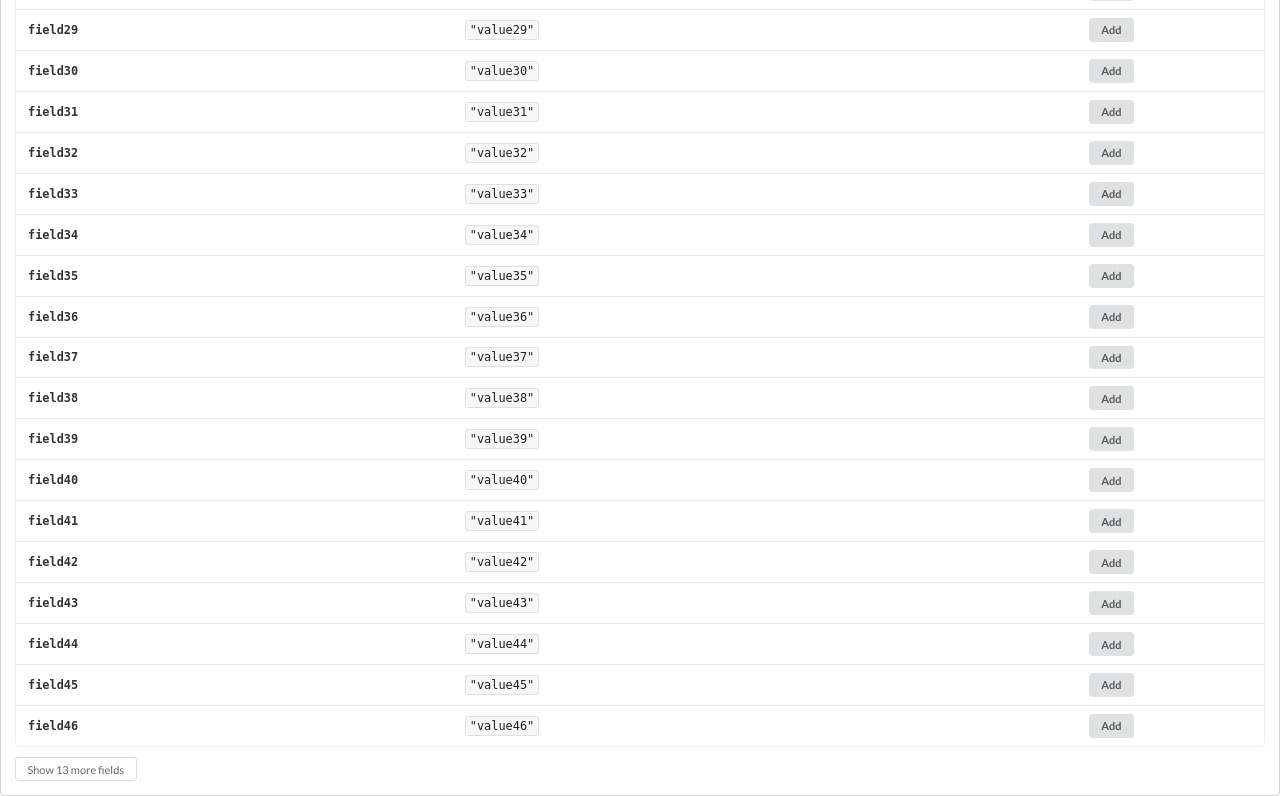
Test case: RowDetail › field list truncation › reveals every field and hides the control once activated
This screenshot has width=1280, height=796.
(page scrolled)
What coordinates should you click on to do the following:
click the button "Show 13 more fields"
I would click on:
 (76, 769)
Its box is [15,757,136,781].
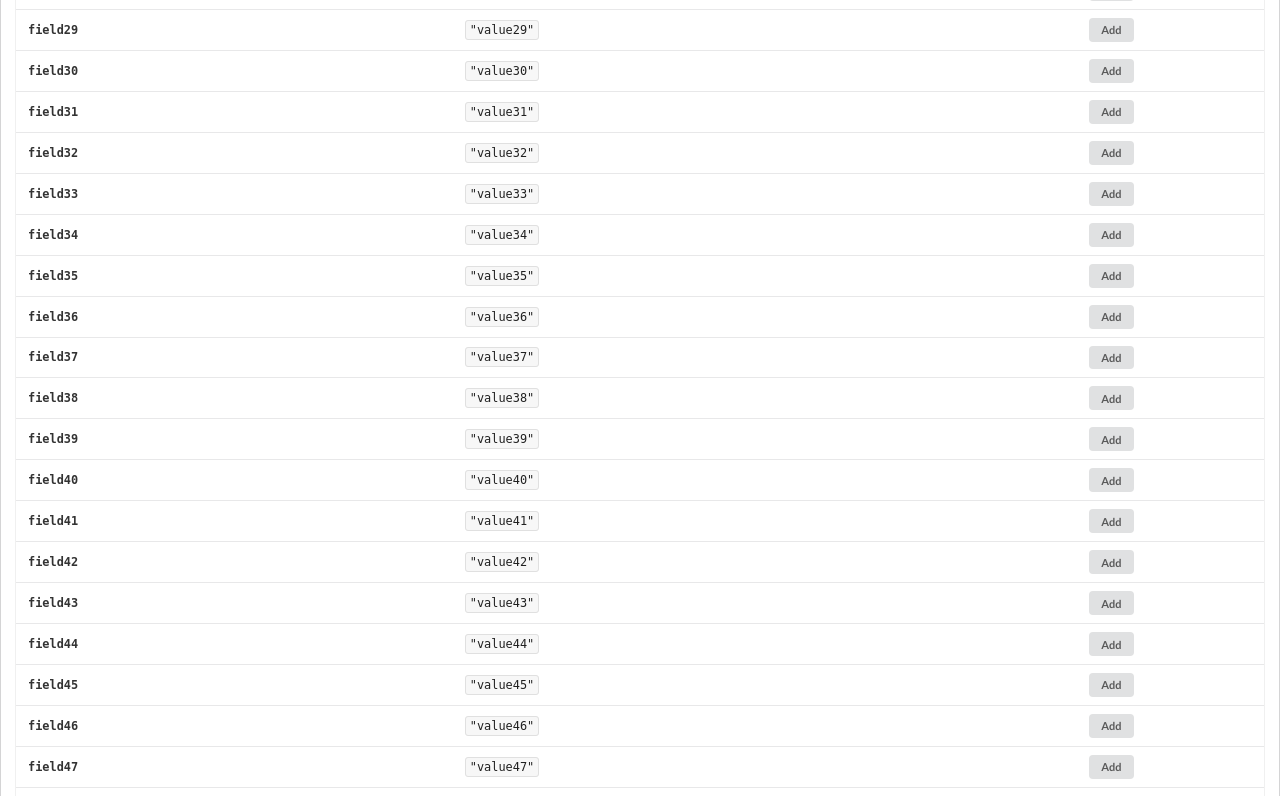
Check: the button "more field" is gone
